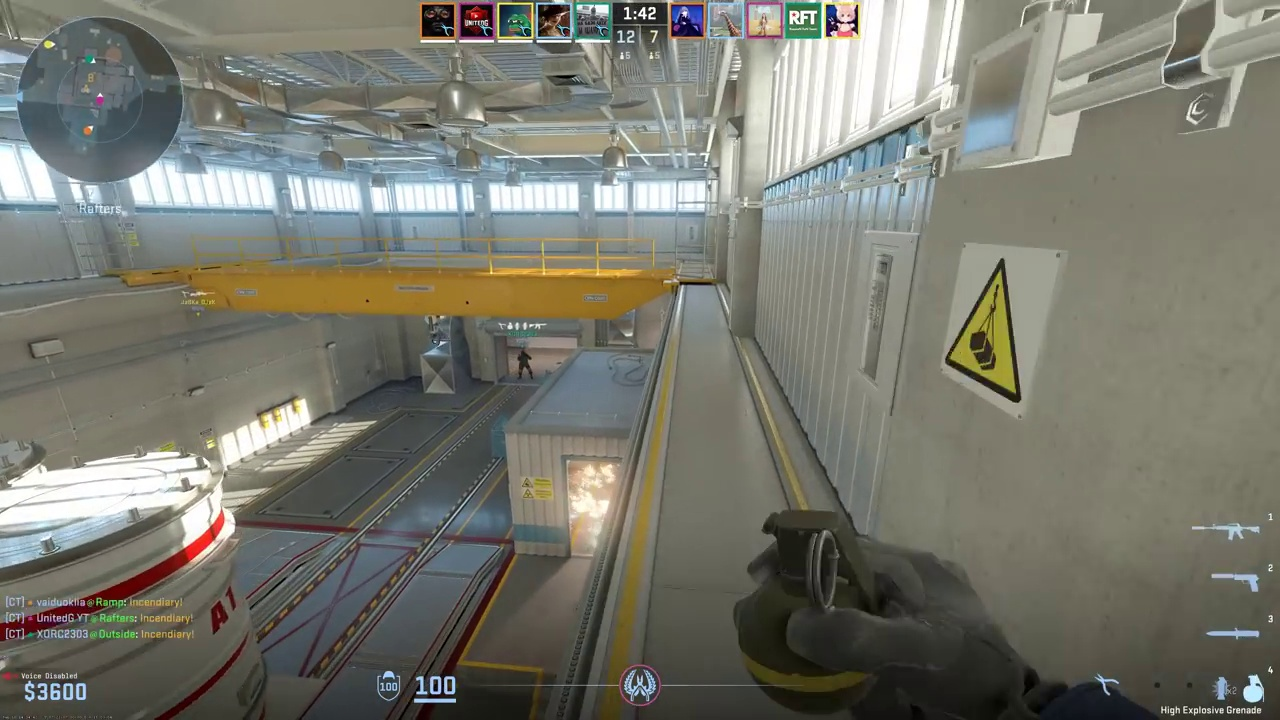CT: (517, 350, 532, 379)
